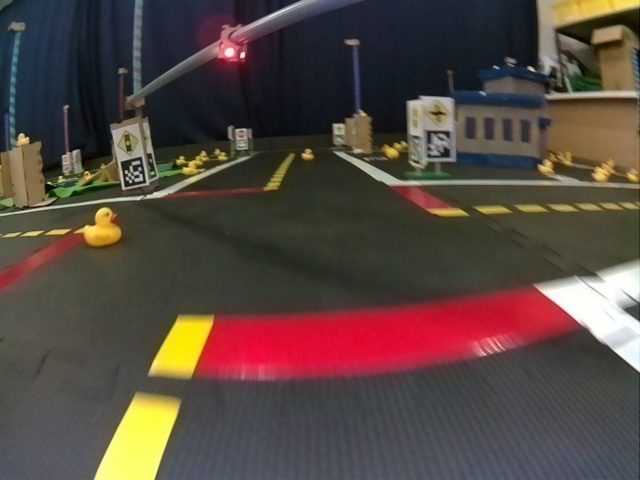Duckie: (84, 208, 122, 247)
QR code: (118, 158, 146, 188), (425, 130, 451, 159)
Signal sign: (117, 129, 140, 156)
Traffic light: (216, 22, 248, 65)
